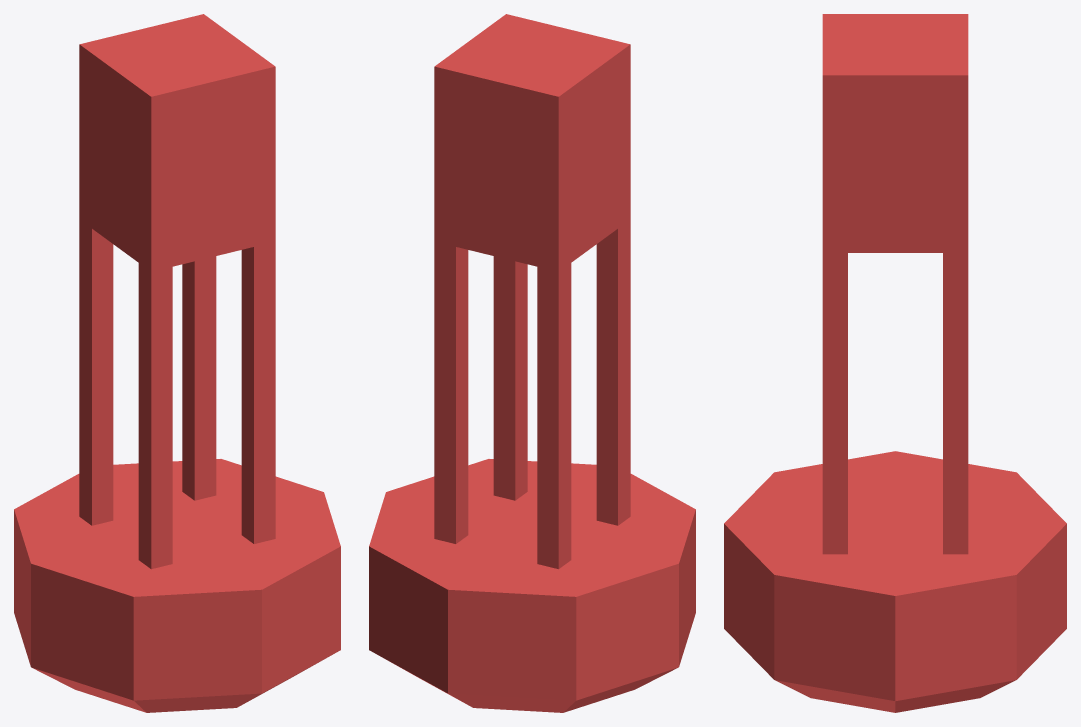
File: watercraftpack_027.glb
The picture shows the model from 3 angles, left to right: view 1: azimuth 30°, elevation 25°; view 2: azimuth 150°, elevation 25°; view 3: azimuth 270°, elevation 25°; orthographic projection.
Parts seen in each view (by area): view 1: Mesh1 Group1 Model; view 2: Mesh1 Group1 Model; view 3: Mesh1 Group1 Model.
Boxes of the visible parts, x1,y1,x2,y2 form: Mesh1 Group1 Model: [14, 14, 340, 712]; Mesh1 Group1 Model: [369, 14, 695, 712]; Mesh1 Group1 Model: [724, 14, 1066, 712].
Bounding box in the file's own units: 0.9282 × 1.84 × 0.9282.
